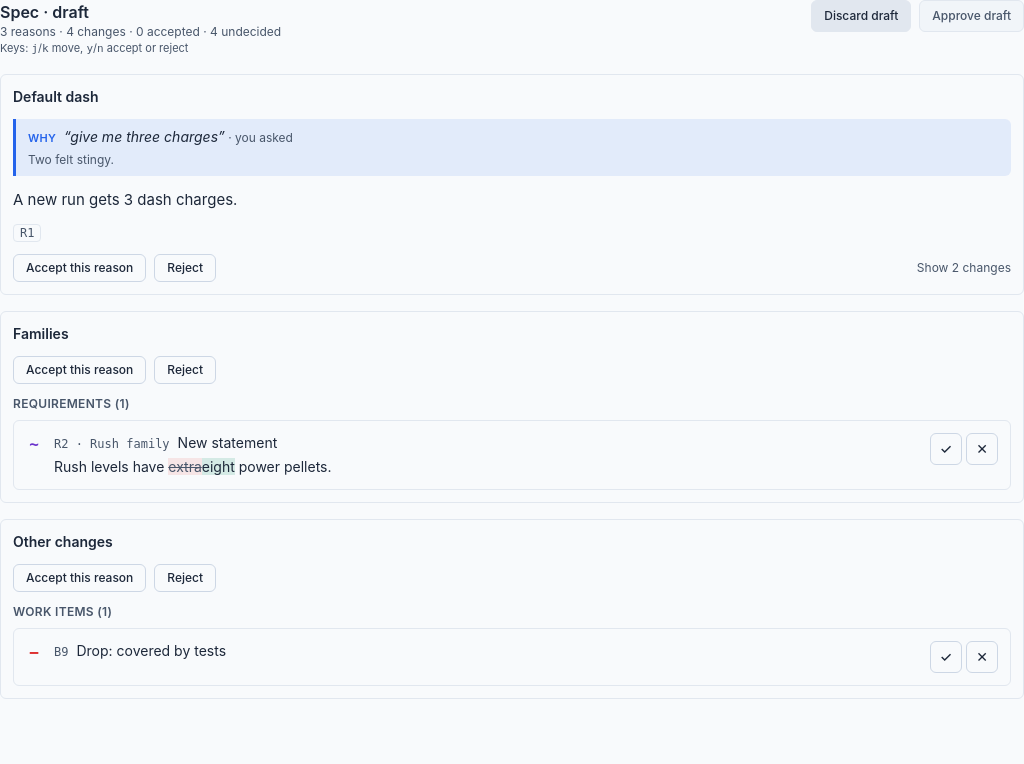
it: DraftPanel › shows a described reason first and folds its changes
expect the element with test id "why" shows "give me three charges": met, box [70,128,218,144]
expect the element with test id "why" shows "you asked": met, box [235,130,293,144]
Click the button "Show 2 changes": coordinates (964, 268) [917,260,1011,276]
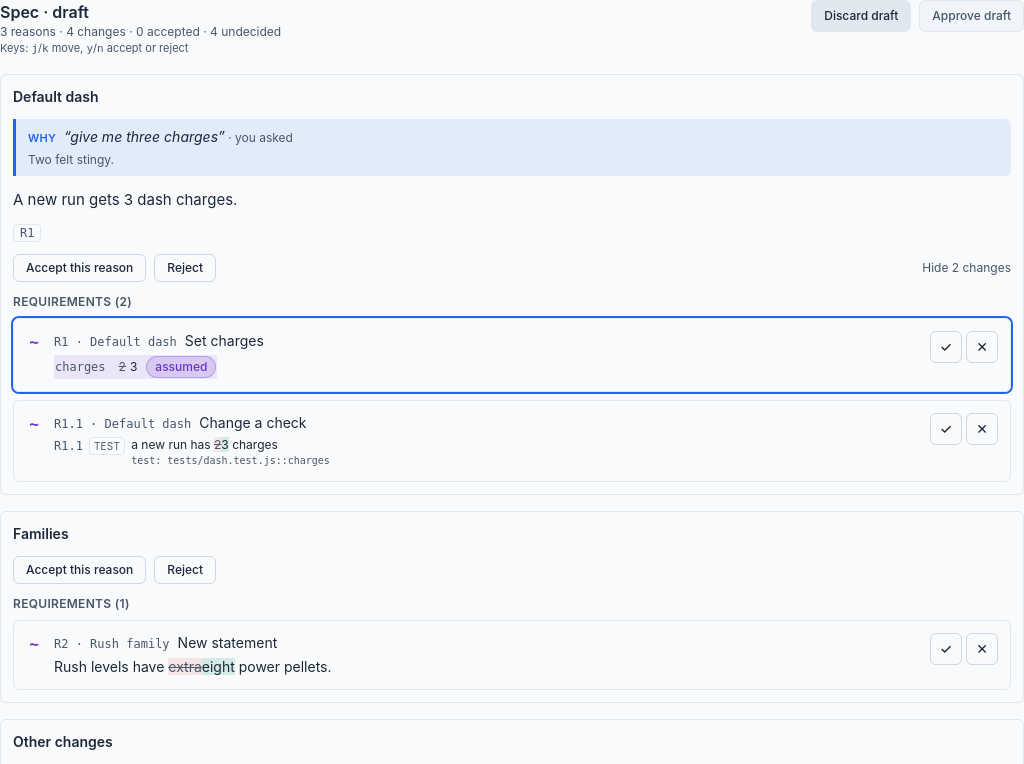
expect the list item with test id "change-c1" is shown: met, box [13,318,1011,392]
